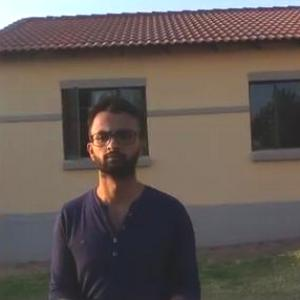follow: (44, 86, 208, 299)
